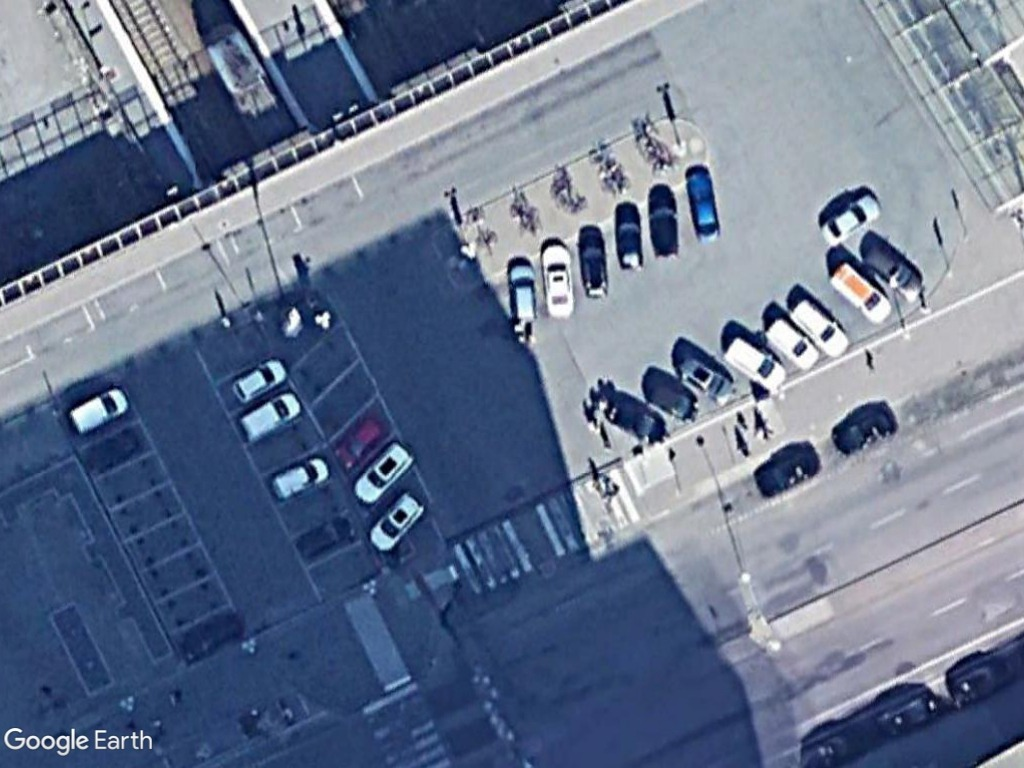car: (780, 289, 856, 361), (348, 437, 420, 508), (856, 234, 929, 303), (590, 391, 675, 449), (364, 484, 428, 558), (292, 502, 365, 563), (816, 184, 883, 249), (669, 351, 741, 411), (328, 406, 388, 477), (676, 159, 724, 243), (757, 319, 827, 375), (641, 180, 686, 262), (268, 447, 334, 502), (536, 234, 577, 322), (226, 351, 291, 406), (575, 220, 609, 302), (503, 257, 537, 338), (612, 196, 646, 275)
van: (824, 255, 902, 328), (718, 329, 794, 394), (233, 382, 305, 445), (63, 379, 130, 439)
